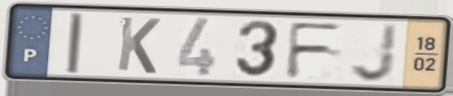3: (231, 19, 281, 80)
4: (175, 15, 219, 79)
F: (283, 21, 347, 81)
I: (64, 11, 86, 75)
J: (348, 22, 401, 85)
K: (114, 14, 163, 77)
